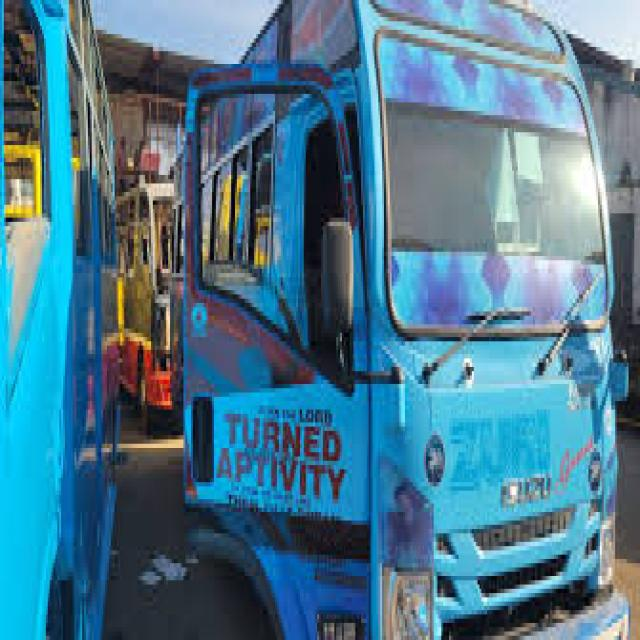bus: (174, 0, 636, 640)
